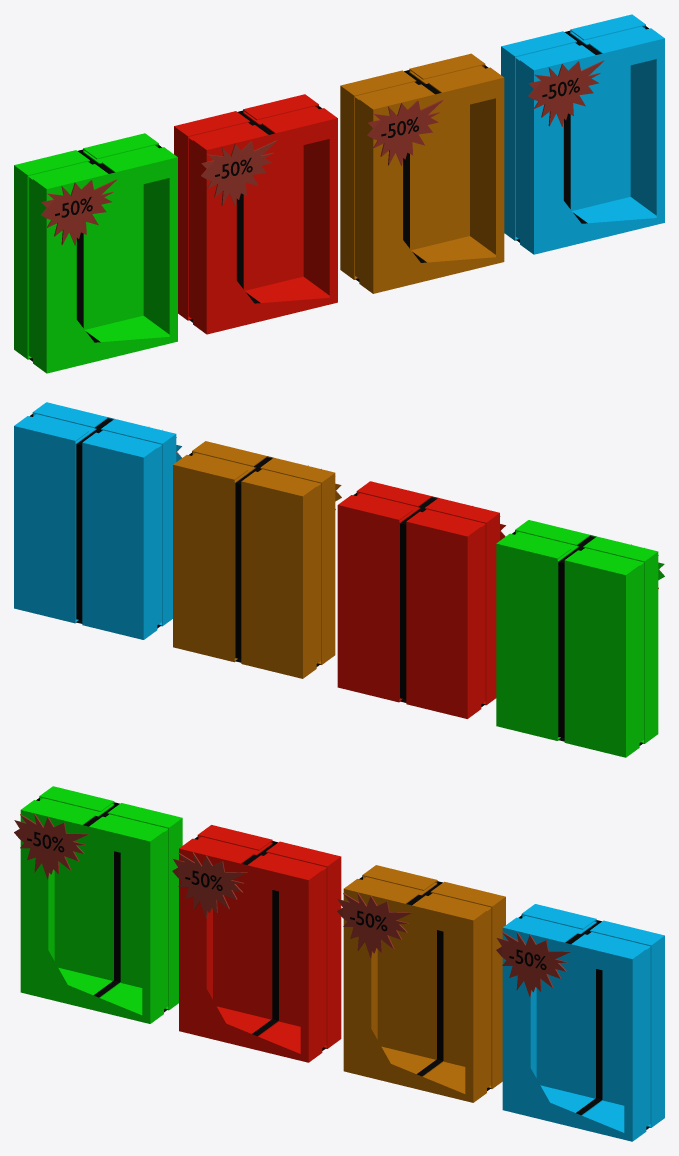
The picture shows the model from 3 angles, top to bottom: view 1: azimuth 30°, elevation 25°; view 2: azimuth 150°, elevation 25°; view 3: azimuth 330°, elevation 25°; orthographic projection.
Visible parts, largest first — view 1: Cube.004, Cube, Cube.006, Cube.002, Cube.001, Cube.003, Cube.005, Cube.007; view 2: Cube, Cube.004, Cube.002, Cube.006; view 3: Cube.002, Cube.006, Cube.004, Cube, Cube.007, Cube.005, Cube.001, Cube.003.
Part boxes in pixels (box(x1,y1,x2,y2)): Cube.004: box(340, 53, 503, 293); Cube: box(14, 133, 177, 373); Cube.006: box(501, 14, 664, 254); Cube.002: box(174, 94, 337, 333); Cube.001: box(41, 157, 177, 373); Cube.003: box(201, 118, 337, 334); Cube.005: box(367, 77, 504, 293); Cube.007: box(528, 38, 664, 254); Cube: box(496, 520, 658, 757); Cube.004: box(173, 441, 335, 678); Cube.002: box(337, 481, 499, 718); Cube.006: box(14, 402, 176, 639); Cube.002: box(179, 825, 341, 1062); Cube.006: box(503, 904, 664, 1141); Cube.004: box(344, 865, 505, 1102); Cube: box(21, 786, 182, 1023); Cube.007: box(496, 927, 632, 1141); Cube.005: box(337, 889, 473, 1102); Cube.001: box(14, 810, 150, 1023); Cube.003: box(172, 848, 308, 1062).
Size of the model in its own units: 2677 by 756 by 251.
